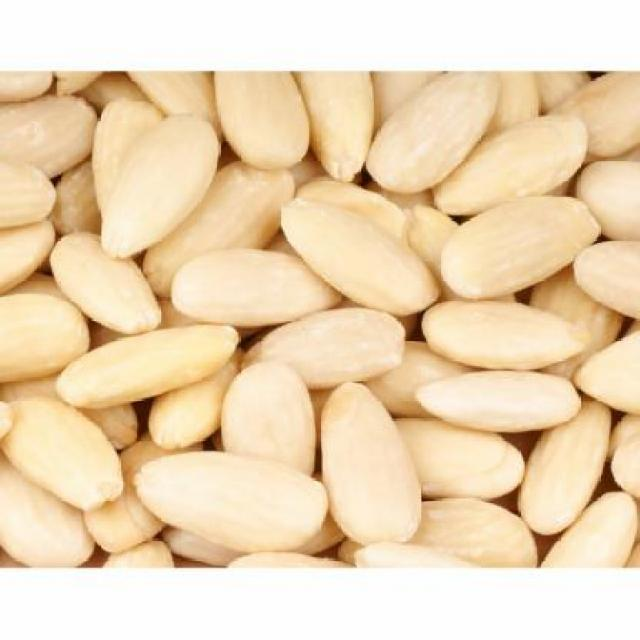Frutta secca: (8, 85, 636, 570)
